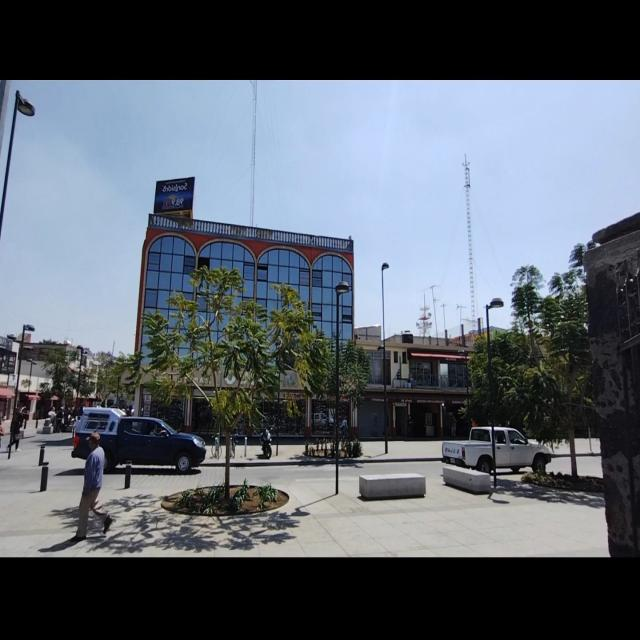adult: (72, 432, 110, 543)
